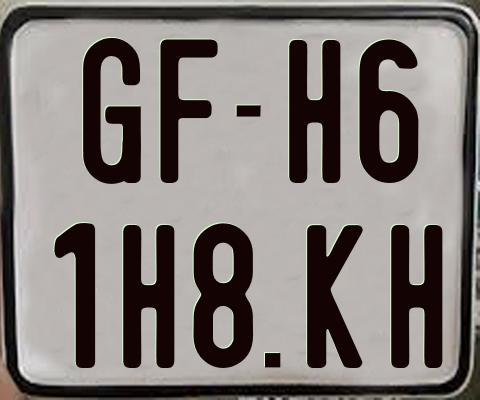1: (51, 222, 96, 371)
6: (359, 38, 421, 186)
8: (193, 223, 256, 370)
F: (160, 36, 222, 182)
G: (82, 38, 140, 187)
H: (389, 225, 446, 371), (287, 37, 339, 184), (122, 224, 174, 369)
K: (307, 225, 365, 373)
